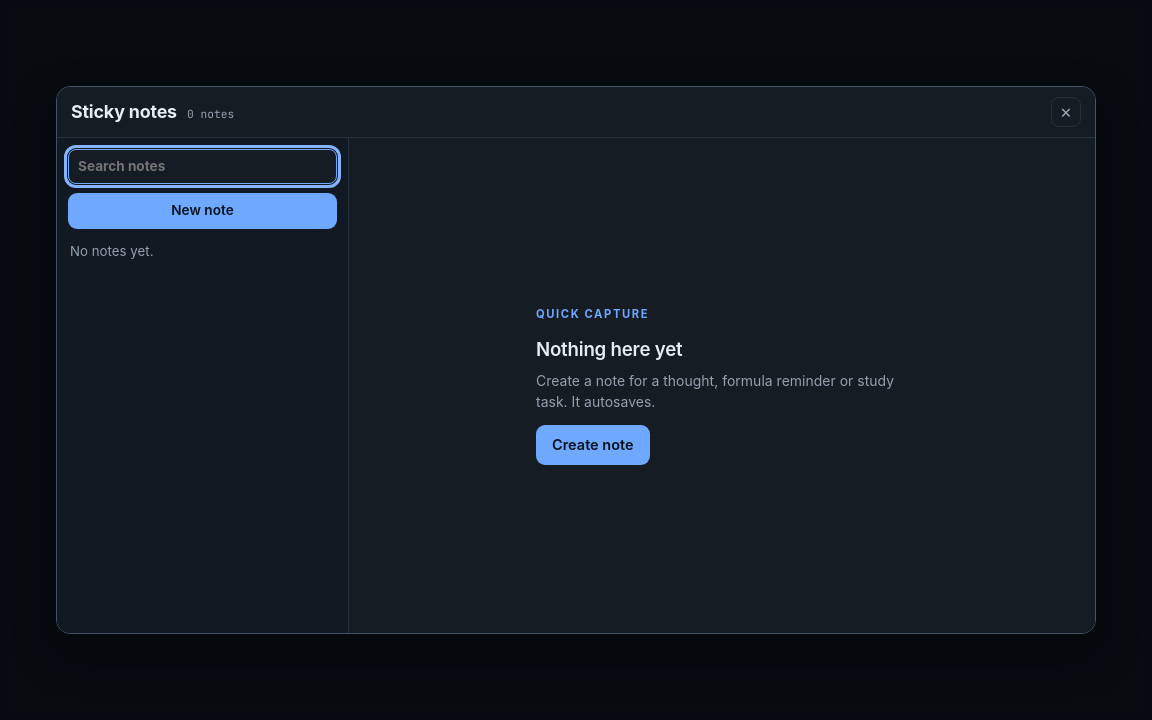
Notes surfaces › creates a note from the compact empty state without an intermediate screen
Expected: the heading "Nothing here yet" is shown, [536, 339, 682, 362]
Step 1. Click the button "Create note" → (593, 445), box [536, 425, 650, 465]
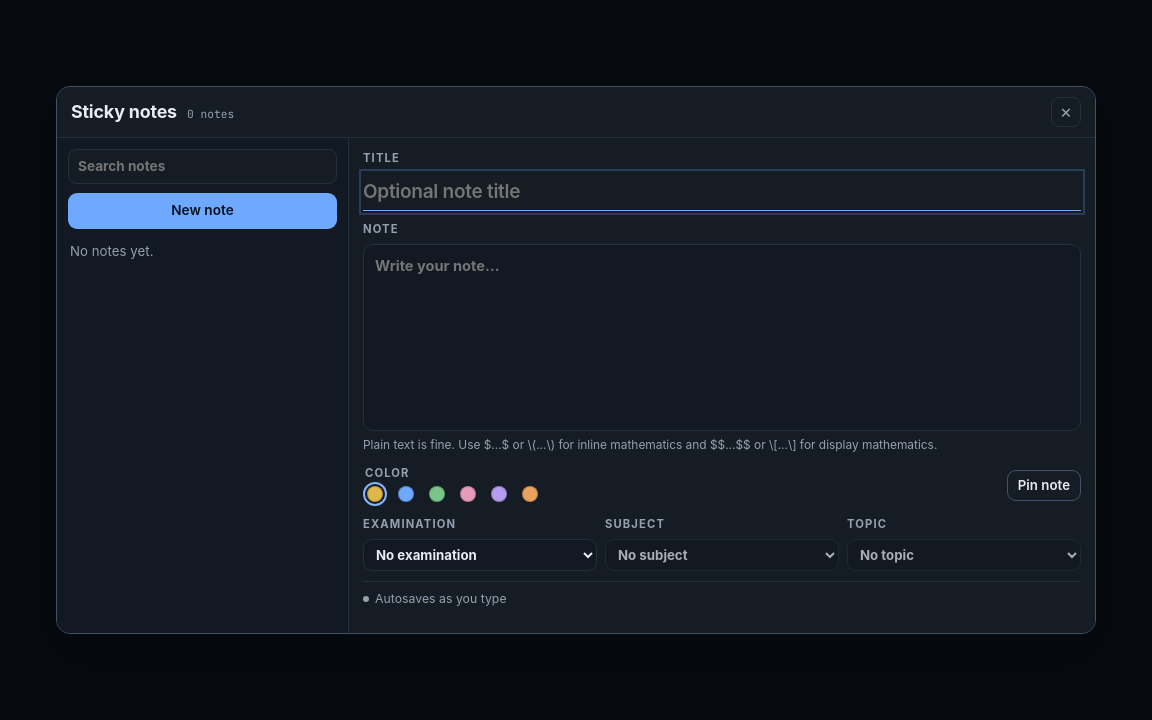
Now the field labelled "Title" is empty, box [363, 173, 1081, 211]
Now the heading "Nothing here yet" is gone
